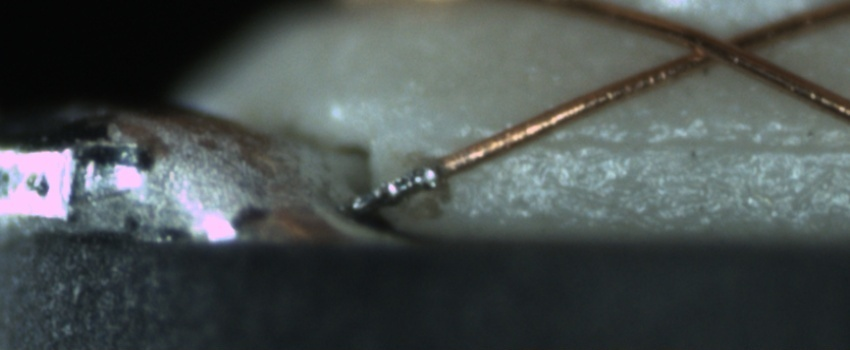CL: (679, 17, 771, 73)
DL: (474, 114, 849, 178)
TS: (345, 163, 447, 214)
TTCW: (341, 140, 491, 218)
